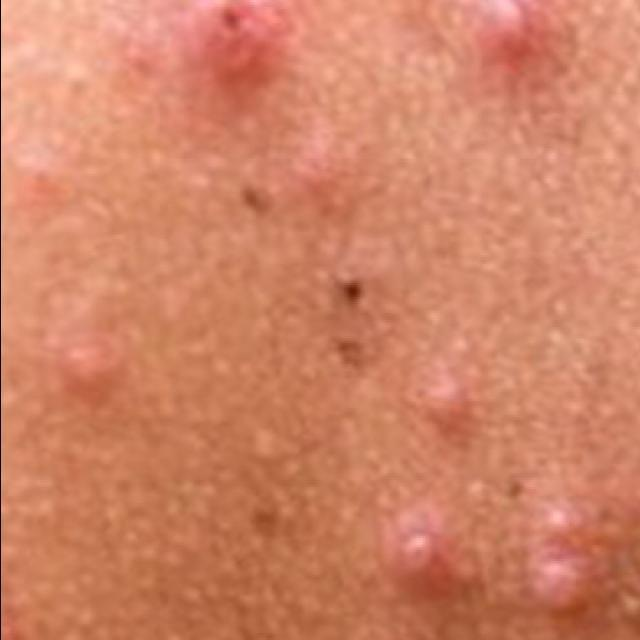acne: (88, 0, 376, 230), (387, 476, 633, 636), (395, 0, 603, 98), (23, 314, 146, 434), (387, 336, 499, 456)
